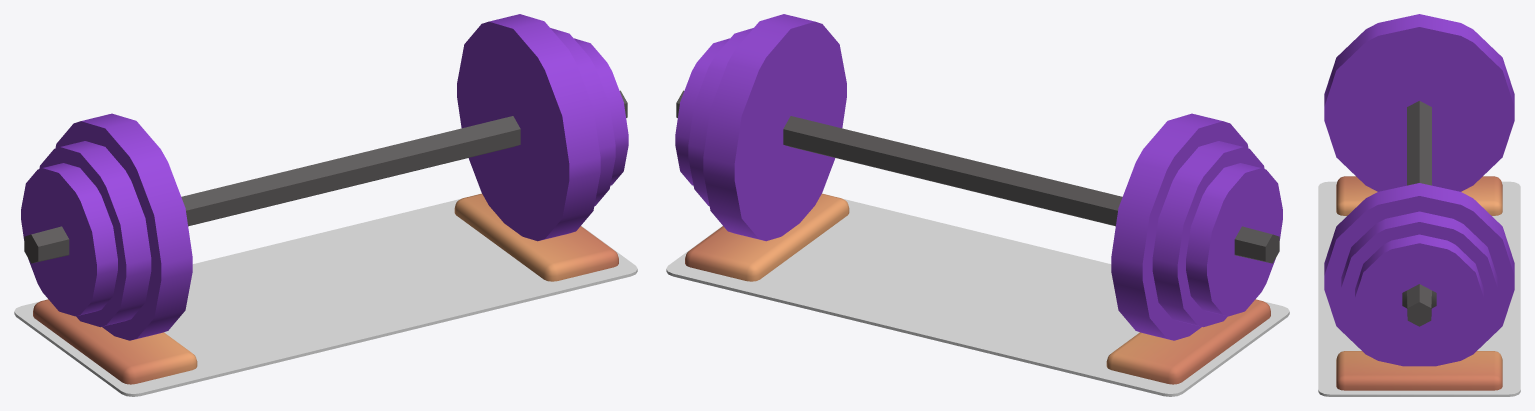
Rendered from Mchn_5.fbx.
3 views of the same model, side by side, from view 1: azimuth 30°, elevation 25°; view 2: azimuth 150°, elevation 25°; view 3: azimuth 270°, elevation 25° (orthographic). The views are drawn at different scales.
Visible parts, largest first — view 1: weightlifting, Mchn_5; view 2: weightlifting, Mchn_5; view 3: weightlifting, Mchn_5.
Part boxes in pixels (x1,y1,x2,y2): weightlifting: (21,14,628,340); Mchn_5: (14,193,637,396); weightlifting: (675,14,1282,340); Mchn_5: (666,193,1289,396); weightlifting: (1324,14,1514,366); Mchn_5: (1318,176,1520,396).
Bounding box in the file's own units: 160 × 56.58 × 56.04.
